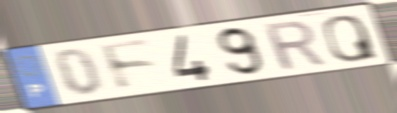0: (53, 46, 105, 98)
4: (172, 33, 213, 83)
9: (215, 25, 267, 78)
F: (97, 38, 160, 94)
Q: (320, 13, 381, 63)
R: (260, 18, 330, 74)
